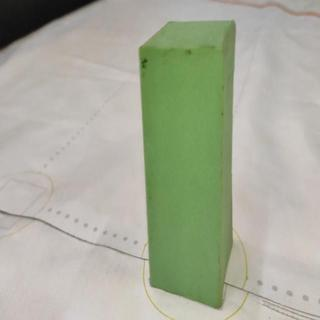greenbox: (139, 18, 236, 308)
